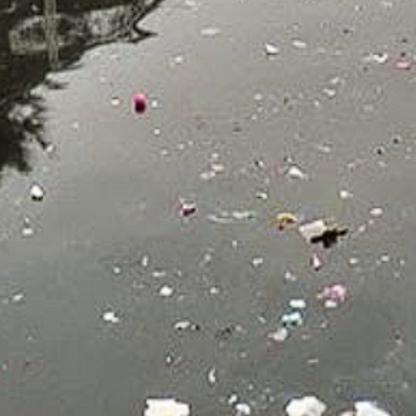Trash: (276, 387, 331, 416), (139, 390, 196, 415), (127, 88, 151, 115)
